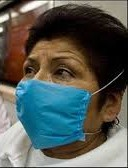with_mask: (15, 10, 128, 150)
